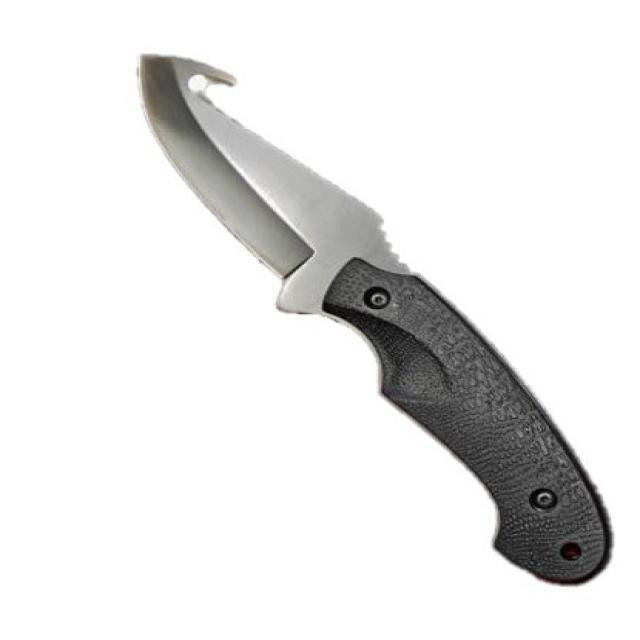knife: (130, 47, 632, 593)
